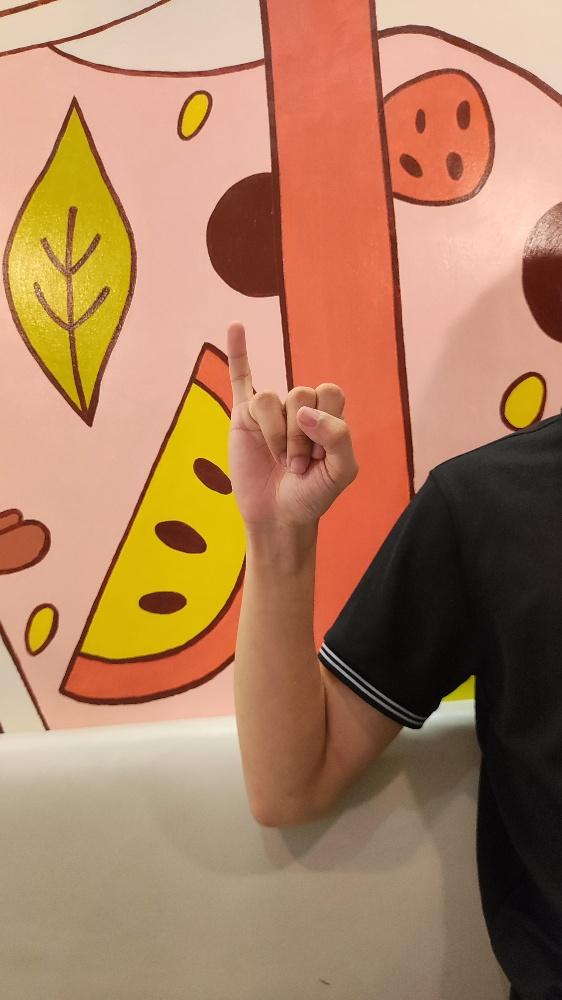i: (224, 317, 359, 527)
